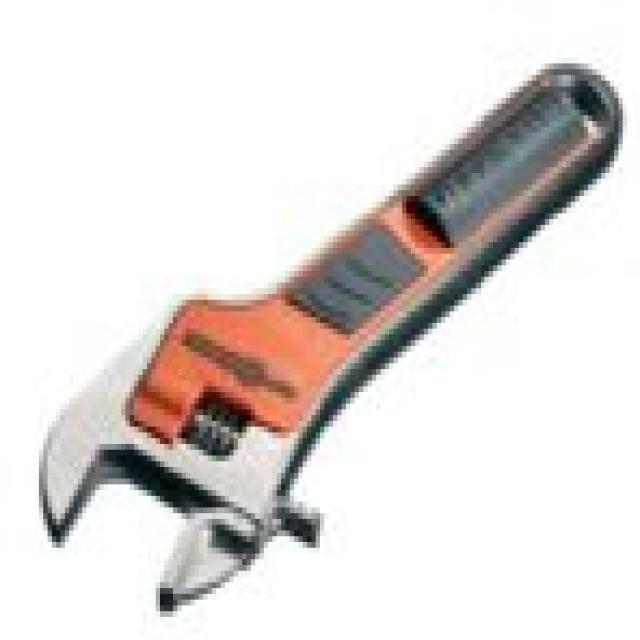wrench: (30, 44, 630, 616)
